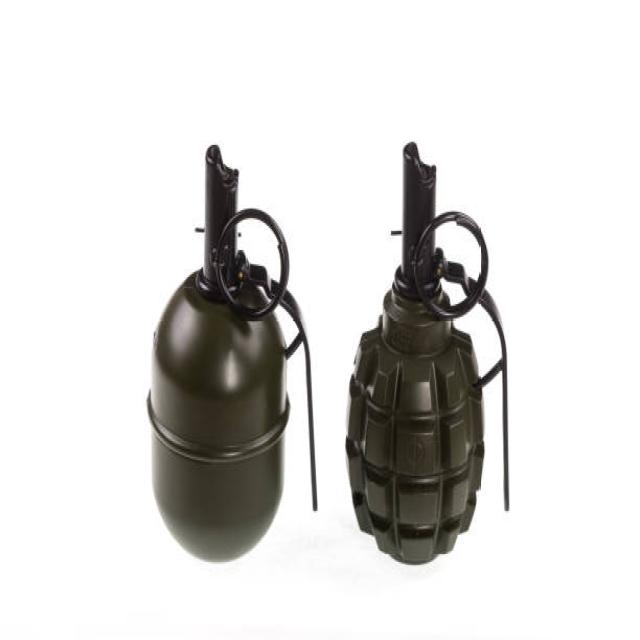grenade: (144, 141, 322, 572), (342, 137, 516, 576)
